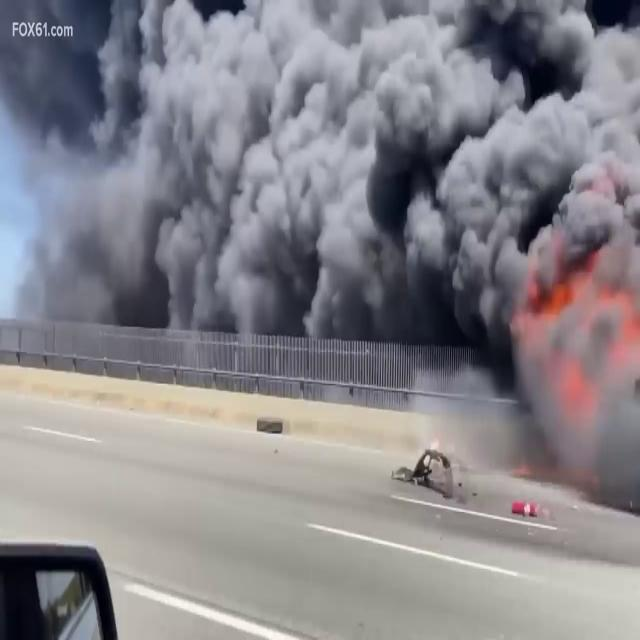Smoke: (4, 0, 638, 358)
